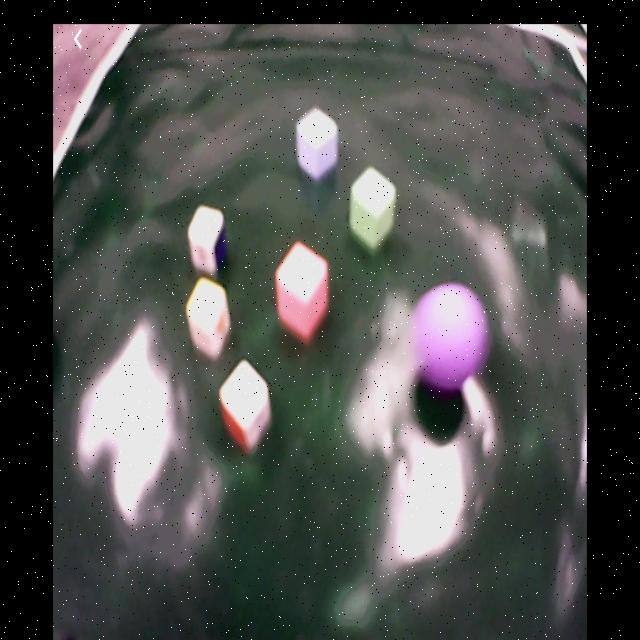ball: (420, 282, 484, 395)
